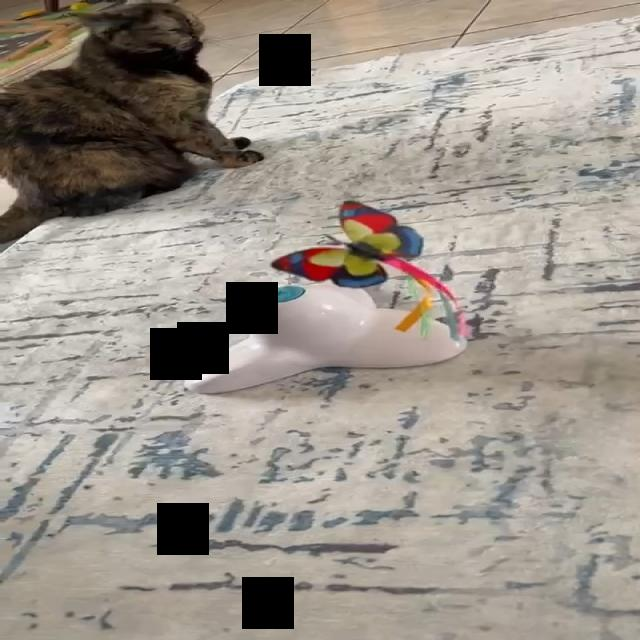authorized: (0, 2, 264, 245)
